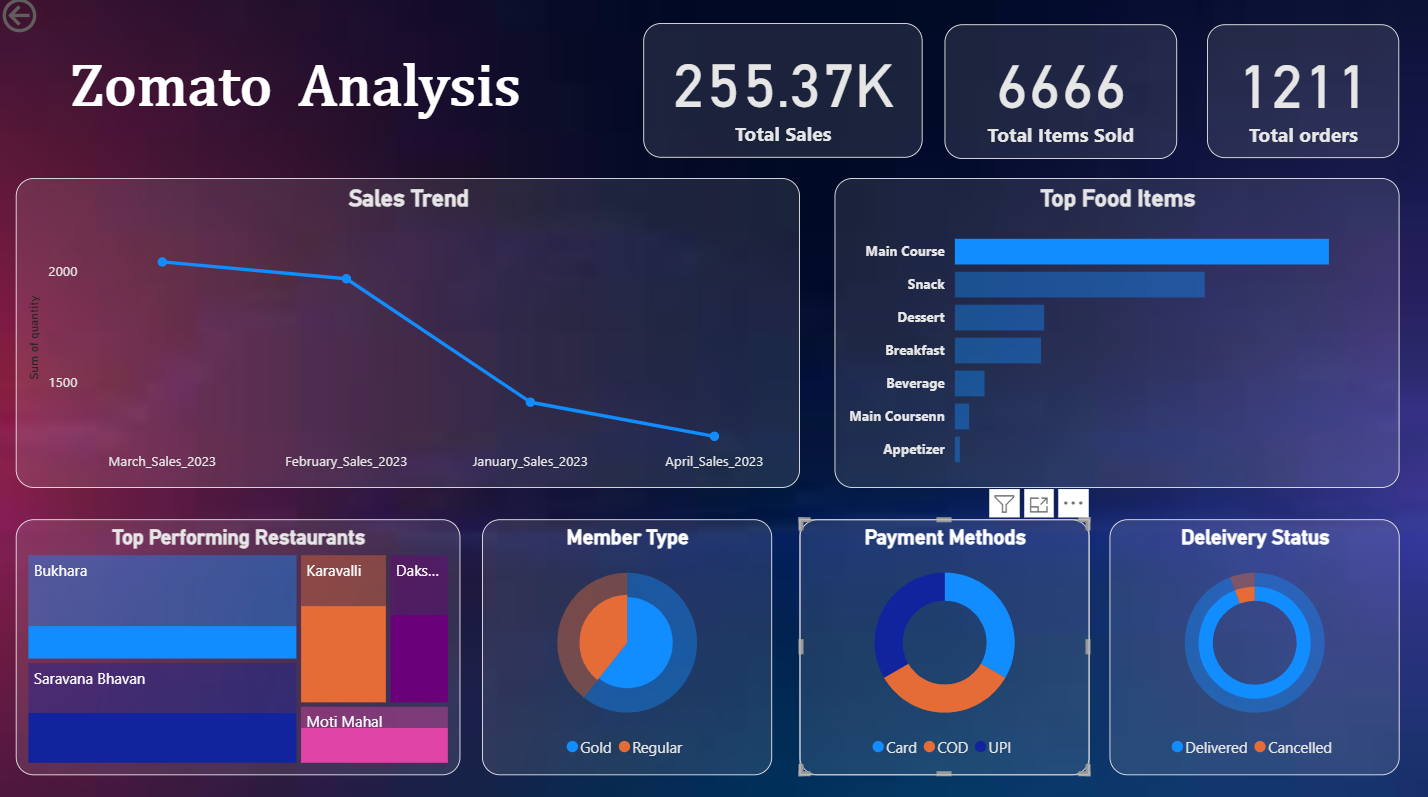

The dashboard page shown, as its layout file describes it:
{"tool":"powerbi","page":{"name":"Page 1","canvas":[1280,720],"ordinal":0},"visuals":[{"type":"clusteredBarChart","title":"Top Food Items","fields":{"Category":["Food_Details.Food_Type"],"Y":["CountNonNull(Orders Data.Fooditem)"]},"box":[745.6,165.3,503.1,276.3],"z":0},{"type":"lineChart","title":"Sales Trend","fields":{"Category":["Orders Data.April_Sales_2023"],"Y":["Sum(Orders Data.quantity)"]},"box":[16.9,165.3,698.5,276.3],"z":1000},{"type":"donutChart","title":"Payment Methods","fields":{"Category":["Orders Data.payment_method"],"Y":["CountNonNull(Customer Details.customer_id)"]},"box":[715.1,468.6,258.1,227.9],"z":2000},{"type":"donutChart","title":"Deleivery Status","fields":{"Category":["Orders Data.deliver_status"],"Y":["CountNonNull(Orders Data.customer_id)"]},"box":[990.5,468.1,258.2,228],"z":3000},{"type":"pieChart","title":"Member Type","fields":{"Category":["Customer Details.member_Type"],"Y":["CountNonNull(Orders Data.customer_id)"]},"box":[431.4,468.6,258.1,227.9],"z":4000},{"type":"treemap","title":"Top Performing Restaurants","fields":{"Group":["Resturant_Details.Resturant_Name"],"Values":["Sum(Orders Data.quantity)"]},"box":[16.9,468.1,395.7,228],"z":5000},{"type":"card","fields":{"Values":["Customer Details.Total orders"]},"box":[1077.4,27.7,171.3,119.4],"z":6000},{"type":"card","fields":{"Values":["Customer Details.Total Items Sold"]},"box":[844.2,27.9,207,119.8],"z":8000},{"type":"actionButton","box":[0,0,100,40],"z":9000},{"type":"card","fields":{"Values":["Avg(Orders Data.order_id)"]},"box":[575.6,26.7,248.8,119.8],"z":10000},{"type":"textbox","box":[60.5,50,448.8,74.4],"z":11000}]}

Visuals, with their boxes in screenshot pixels (x1, y1, x2, y2), scaled from the page's 1280x720 canvas onto the 1428x797 screenshot:
"Top Food Items" clusteredBarChart: 832 183 1393 489
"Sales Trend" lineChart: 19 183 798 489
"Payment Methods" donutChart: 798 519 1086 771
"Deleivery Status" donutChart: 1105 518 1393 771
"Member Type" pieChart: 481 519 769 771
"Top Performing Restaurants" treemap: 19 518 460 771
card - Customer Details.Total orders: 1202 31 1393 163
card - Customer Details.Total Items Sold: 942 31 1173 163
actionButton: 0 0 112 44
card - Avg(Orders Data.order_id): 642 30 920 162
textbox: 67 55 568 138
